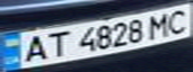2: (109, 19, 133, 48)
4: (75, 25, 100, 54)
8: (124, 16, 151, 44), (93, 21, 115, 52)
A: (15, 33, 54, 64)
C: (160, 6, 193, 35)
M: (142, 10, 175, 38)
T: (39, 28, 72, 60)
